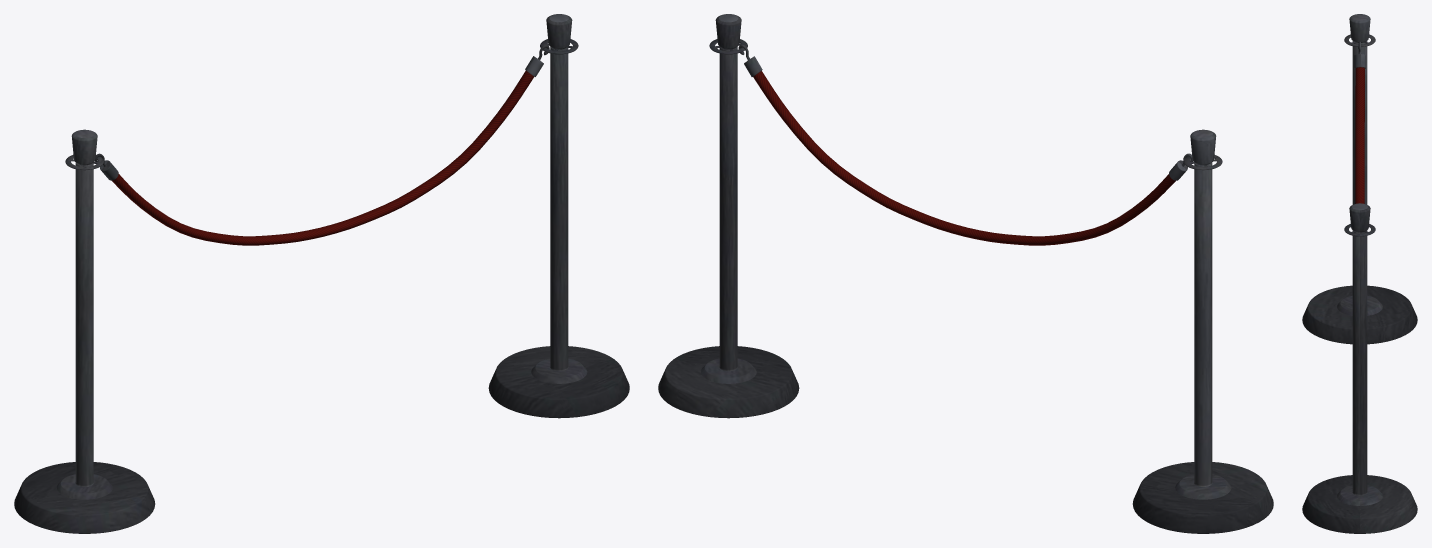
Rendered from Velvet.obj.
3 views of the same model, side by side, from view 1: azimuth 30°, elevation 25°; view 2: azimuth 150°, elevation 25°; view 3: azimuth 270°, elevation 25° (orthographic). The views are drawn at different scales.
Parts seen in each view (by area): view 1: MetalPoles_Torus, Rope_Cylinder_001; view 2: MetalPoles_Torus, Rope_Cylinder_001; view 3: MetalPoles_Torus, Rope_Cylinder_001.
Part boxes in pixels (<box>): MetalPoles_Torus: <box>14,14,629,533</box>; Rope_Cylinder_001: <box>112,70,533,245</box>; MetalPoles_Torus: <box>658,14,1273,533</box>; Rope_Cylinder_001: <box>753,71,1175,245</box>; MetalPoles_Torus: <box>1302,14,1417,533</box>; Rope_Cylinder_001: <box>1355,67,1364,203</box>.
Bounding box in the file's own units: 5.49 × 3.26 × 1.12.
